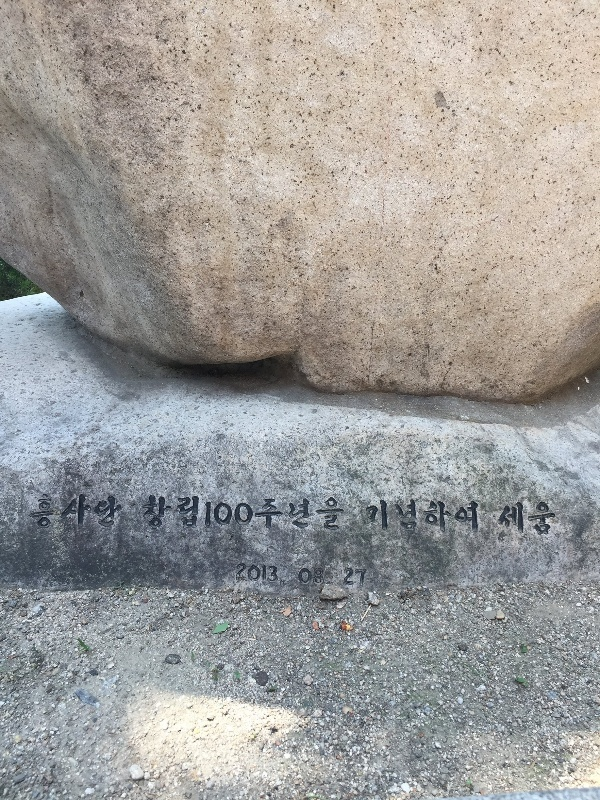text: (33, 491, 48, 534), (49, 491, 64, 534), (65, 491, 80, 534), (81, 491, 96, 534), (97, 491, 112, 534), (465, 496, 481, 536), (369, 496, 384, 536), (385, 496, 400, 536), (401, 496, 416, 536), (417, 496, 432, 536), (433, 496, 448, 536), (449, 496, 464, 536), (145, 495, 160, 533), (161, 495, 176, 533), (177, 495, 192, 533), (193, 495, 208, 533), (209, 495, 224, 533), (225, 495, 240, 533), (241, 495, 256, 533), (257, 495, 272, 533), (273, 495, 288, 533), (289, 495, 304, 533), (305, 495, 320, 533), (321, 495, 336, 533), (513, 500, 528, 538), (529, 500, 544, 538), (498, 500, 512, 538), (113, 491, 124, 534), (241, 561, 256, 591), (257, 561, 272, 591), (545, 500, 556, 538), (305, 564, 320, 591), (353, 564, 368, 591), (273, 561, 285, 591), (337, 495, 346, 533), (344, 564, 352, 591), (364, 496, 368, 536), (299, 564, 304, 591), (321, 564, 325, 591), (237, 561, 240, 591), (31, 491, 32, 534), (143, 495, 144, 533)
